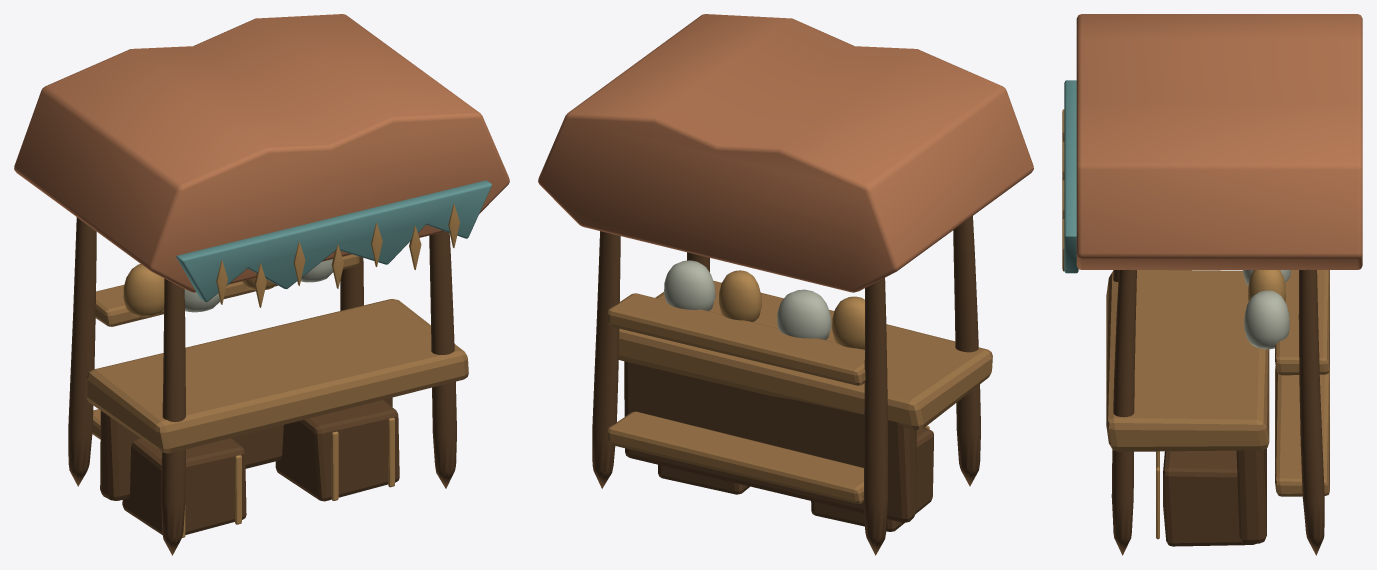
Rendered from market_stall.glb.
The picture shows the model from 3 angles, left to right: view 1: azimuth 30°, elevation 25°; view 2: azimuth 150°, elevation 25°; view 3: azimuth 270°, elevation 25°; orthographic projection. The views are drawn at different scales.
Visible parts, largest first — view 1: Layered embroidered canopy, Merchant counter slab, Canopy contrasting valance, Reinforced goods crate 1, Reinforced goods crate 0, Carved stall post -1 1, Carved stall post -1 -1, Carved stall post 1 -1, Merchant counter front, Display shelf 1, Merchant jar 0, Carved stall post 1 1; view 2: Layered embroidered canopy, Merchant counter front, Merchant counter slab, Display shelf 0, Display shelf 1, Carved stall post -1 1, Carved stall post 1 1, Carved stall post -1 -1, Reinforced goods crate 0, Merchant jar 1, Merchant jar 3, Merchant jar 2 (+2 smaller); view 3: Layered embroidered canopy, Merchant counter slab, Reinforced goods crate 1, Carved stall post 1 1, Carved stall post 1 -1, Display shelf 0, Display shelf 1, Merchant counter front, Canopy contrasting valance, Merchant jar 3, Merchant jar 2.
Boxes of the visible parts, x1,y1,x2,y2 form: Layered embroidered canopy: [14, 14, 509, 292]; Merchant counter slab: [86, 299, 468, 453]; Canopy contrasting valance: [176, 180, 491, 302]; Reinforced goods crate 1: [275, 400, 399, 501]; Reinforced goods crate 0: [122, 438, 246, 534]; Carved stall post -1 1: [68, 217, 96, 486]; Carved stall post -1 -1: [161, 278, 185, 555]; Carved stall post 1 -1: [429, 231, 456, 488]; Merchant counter front: [100, 397, 392, 500]; Display shelf 1: [95, 254, 359, 326]; Merchant jar 0: [123, 264, 164, 317]; Carved stall post 1 1: [340, 256, 363, 310]; Layered embroidered canopy: [538, 14, 1033, 292]; Merchant counter front: [624, 361, 916, 522]; Merchant counter slab: [618, 280, 992, 429]; Display shelf 0: [607, 411, 863, 503]; Display shelf 1: [607, 293, 865, 385]; Carved stall post -1 1: [863, 278, 888, 555]; Carved stall post 1 1: [592, 231, 620, 488]; Carved stall post -1 -1: [953, 216, 980, 486]; Reinforced goods crate 0: [811, 428, 933, 531]; Merchant jar 1: [777, 289, 831, 339]; Merchant jar 3: [664, 260, 715, 310]; Merchant jar 2: [719, 270, 761, 322]; Layered embroidered canopy: [1076, 14, 1362, 269]; Merchant counter slab: [1106, 270, 1269, 451]; Reinforced goods crate 1: [1163, 450, 1256, 546]; Carved stall post 1 1: [1298, 269, 1324, 555]; Carved stall post 1 -1: [1111, 269, 1136, 555]; Display shelf 0: [1275, 366, 1329, 496]; Display shelf 1: [1275, 270, 1329, 375]; Merchant counter front: [1236, 448, 1266, 544]; Canopy contrasting valance: [1064, 80, 1078, 273]; Merchant jar 3: [1244, 290, 1289, 349]; Merchant jar 2: [1248, 270, 1285, 301].
Size of the model in its own units: 2.42 by 2.63 by 1.7.
